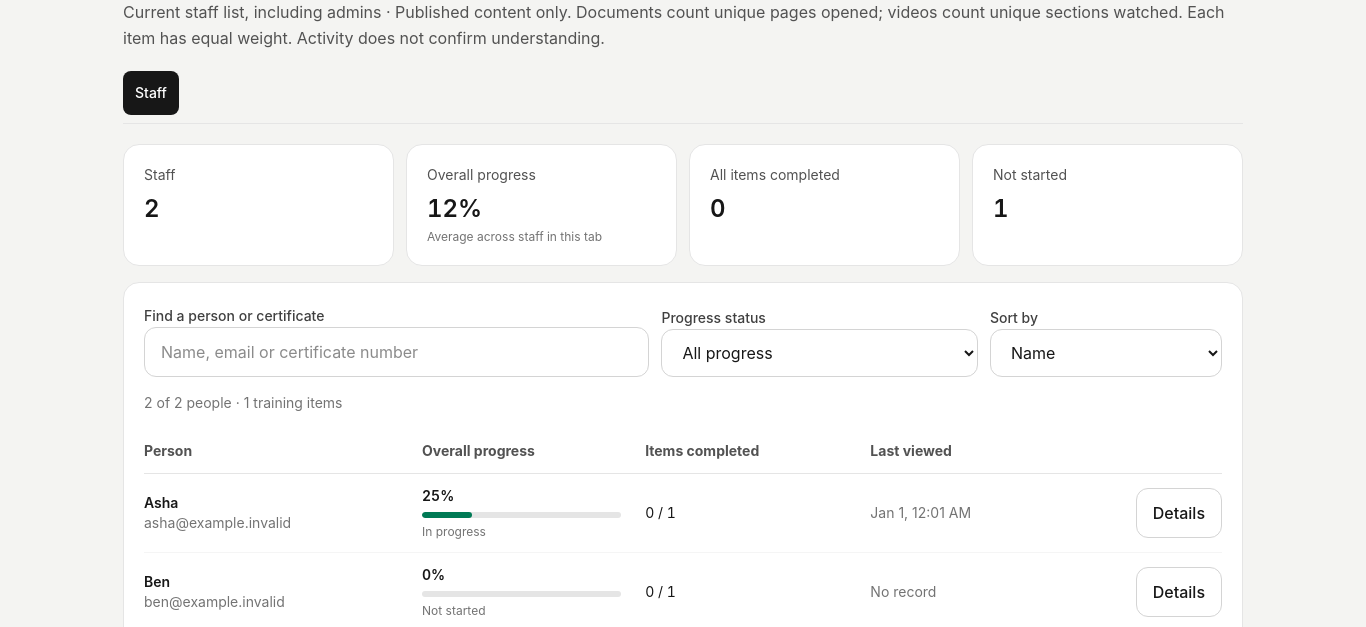
Test: switching people discards the pending history and an initial failure can be retried
Click the button with aria-label "View progress for Asha" at (1179, 513), box [1136,488,1222,538]
(page scrolled)
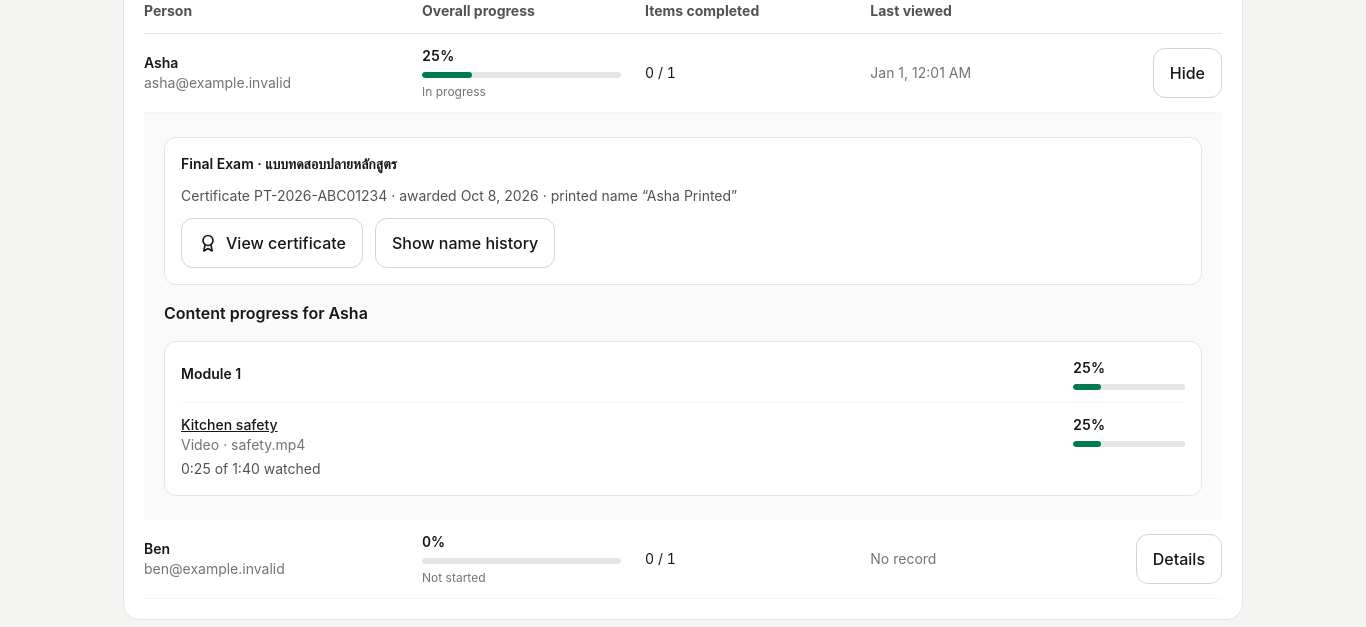
Click the button "Show name history" at (465, 243), box [375,218,555,268]
(page scrolled)
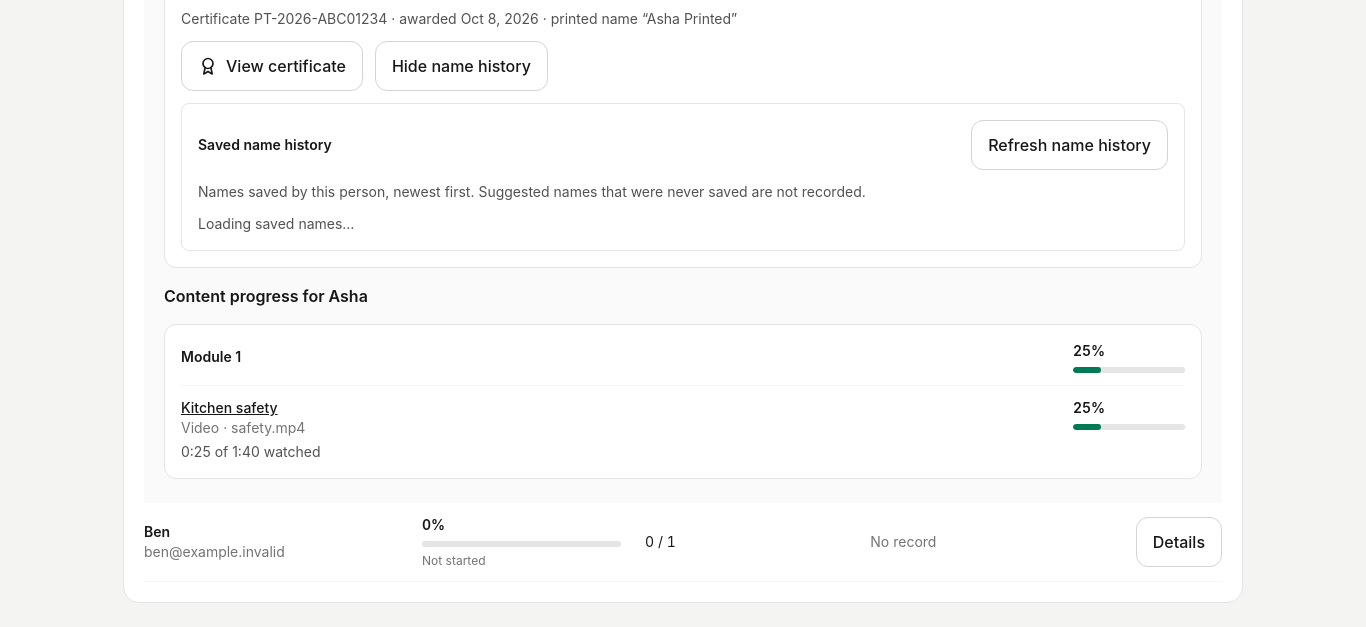
Click the button with aria-label "View progress for Ben" at (1179, 542), box [1136,517,1222,567]
(page scrolled)
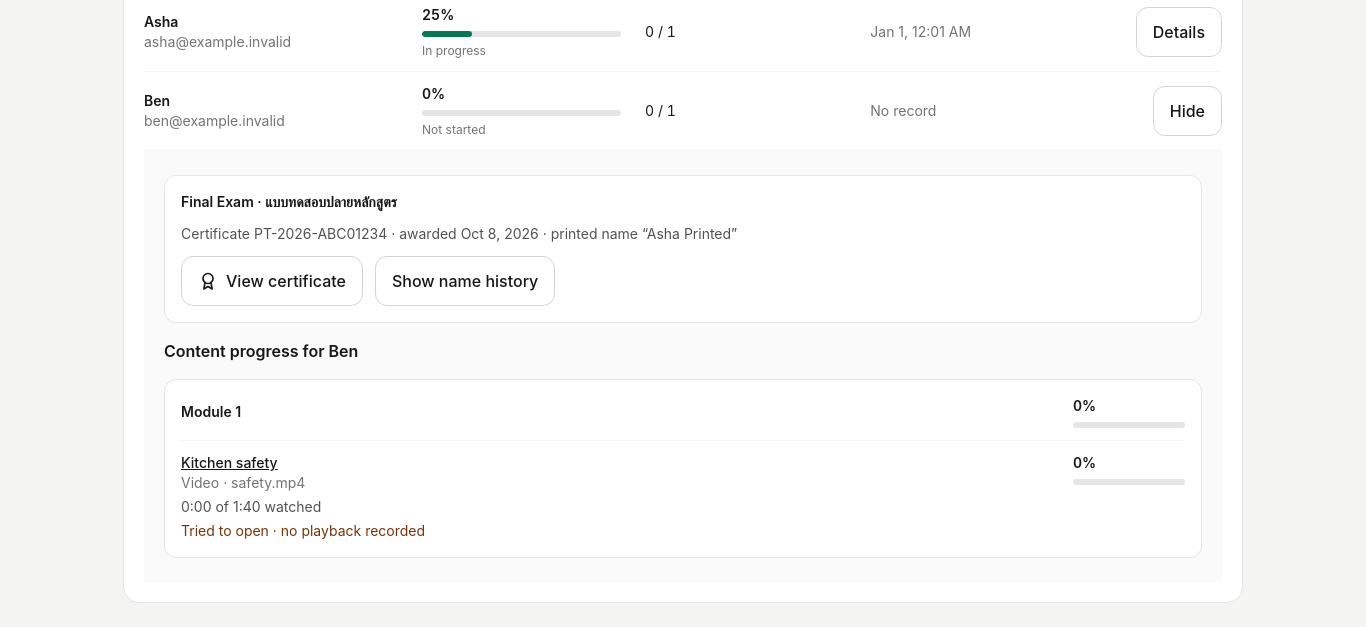
Click the button "Show name history" at (465, 281), box [375,256,555,306]
(page scrolled)
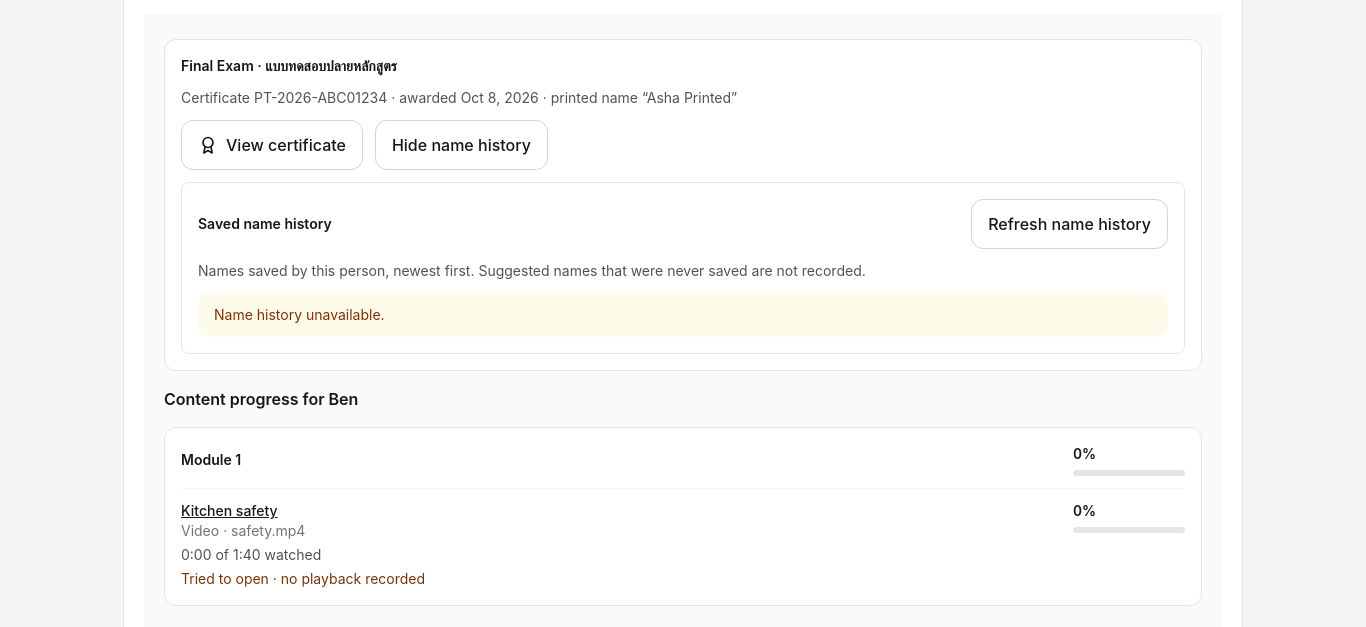
Now the text "Name history unavailable." is shown, box [198,293,1168,337]
Click the button "Refresh name history" at (1070, 224), box [971,199,1168,249]
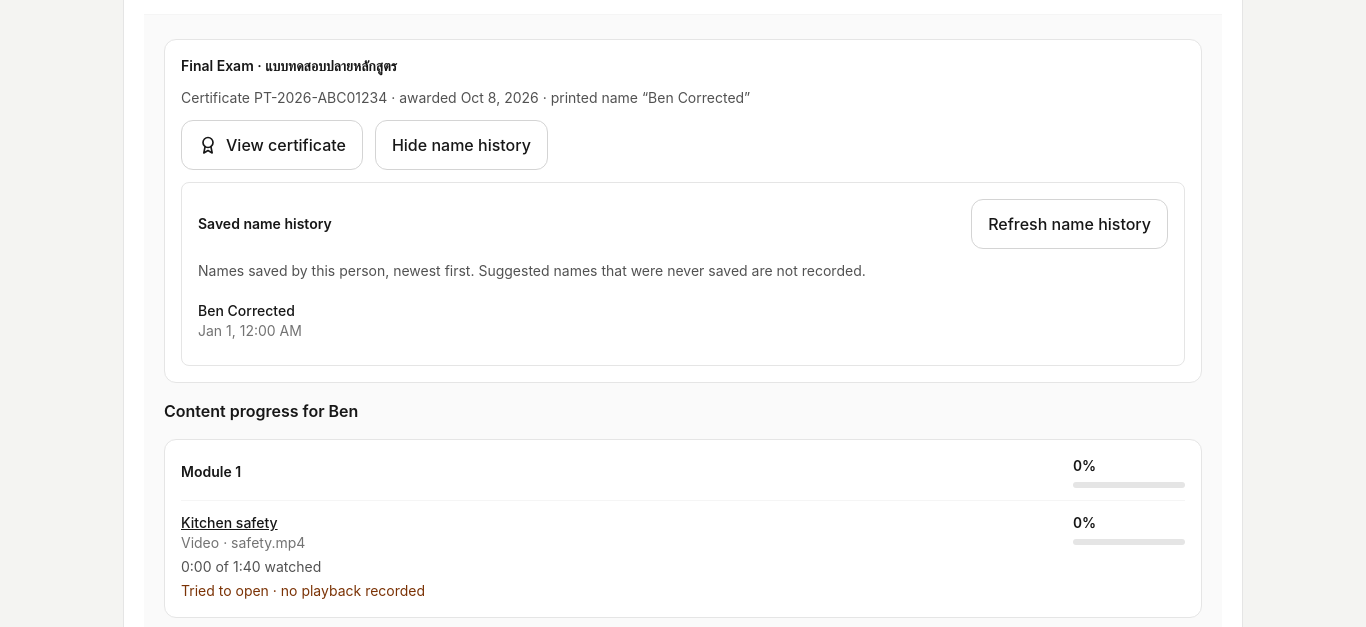
Now the text "Ben Corrected" is shown, box [198,302,295,319]
